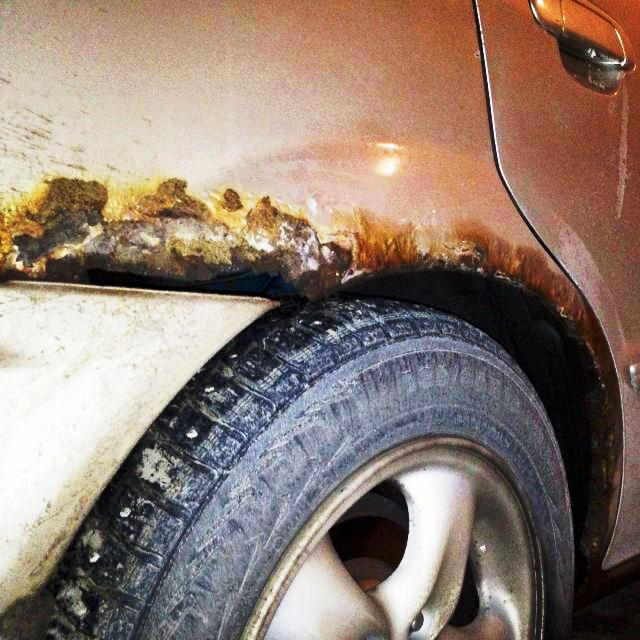Corrosion: (0, 172, 622, 591)
